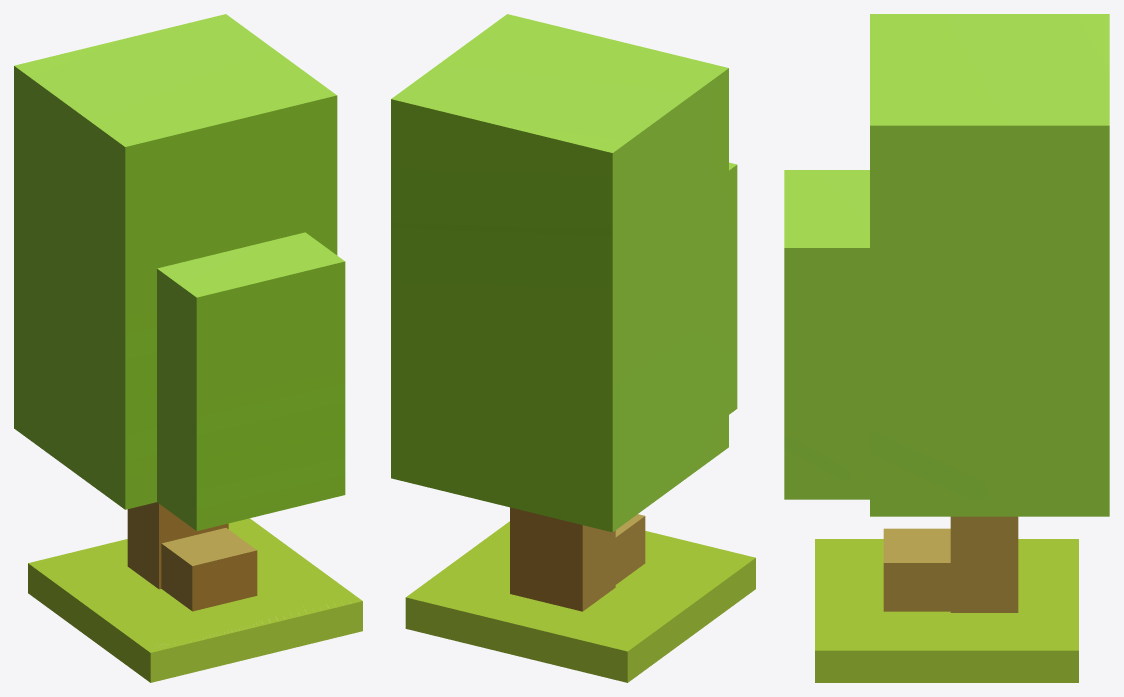
The model's file is tree.fbx.
3 views of the same model, side by side, from view 1: azimuth 30°, elevation 25°; view 2: azimuth 150°, elevation 25°; view 3: azimuth 270°, elevation 25° (orthographic). The views are drawn at different scales.
Visible parts, largest first — view 1: pCube4, pCube5; view 2: pCube4, pCube5; view 3: pCube4, pCube5.
Part boxes in pixels (x1,y1,x2,y2): pCube4: (14,14,345,611); pCube5: (28,518,362,682); pCube4: (391,14,737,611); pCube5: (405,521,755,682); pCube4: (784,14,1109,612); pCube5: (815,539,1078,682).
Size of the model in its own units: 57.59 by 134 by 70.93.
